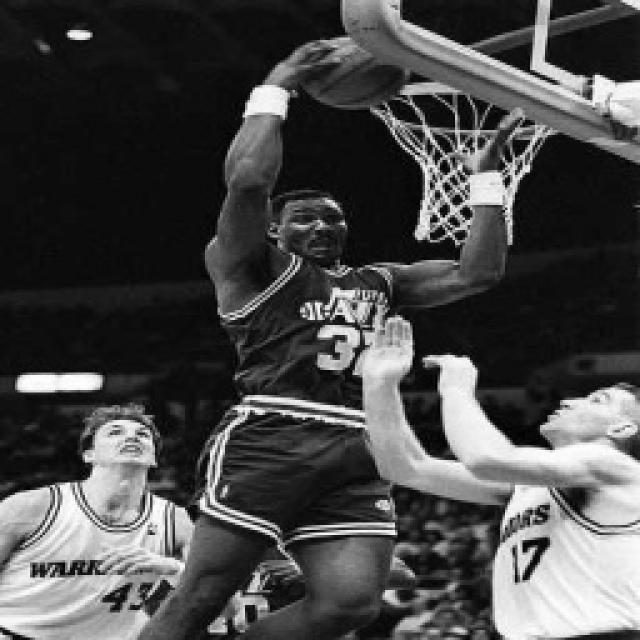rim: (294, 27, 418, 116)
